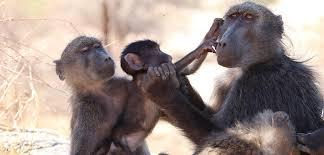Non_Gorille: (52, 4, 322, 155)
